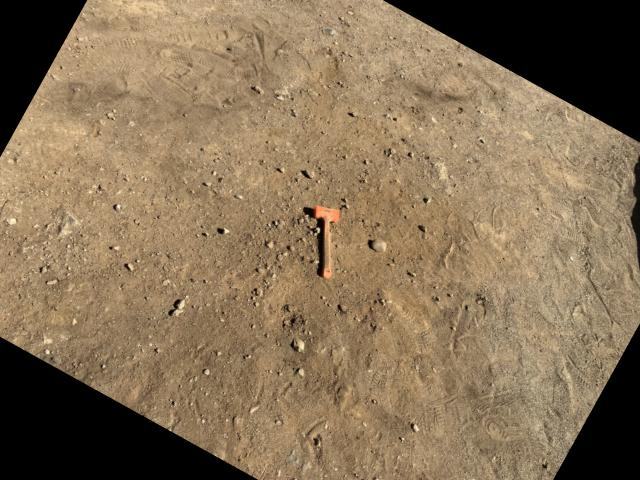hammer: (288, 198, 362, 280)
